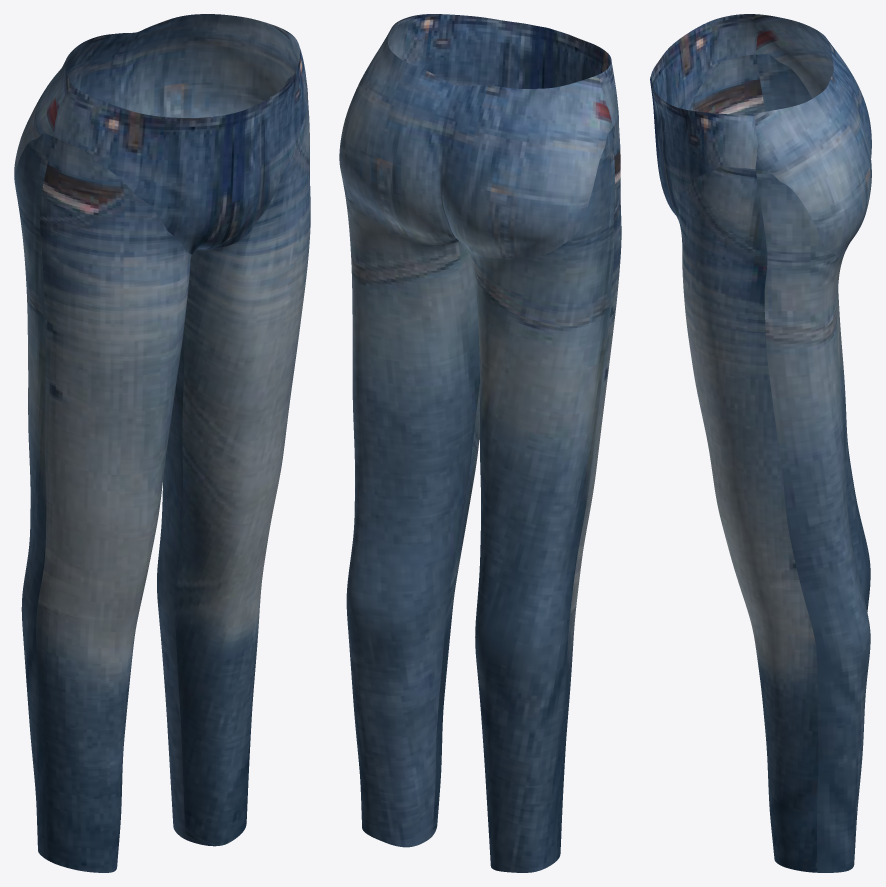
File: Zubon02.fbx
3 views of the same model, side by side, from view 1: azimuth 30°, elevation 25°; view 2: azimuth 150°, elevation 25°; view 3: azimuth 270°, elevation 25° (orthographic). The views are drawn at different scales.
Parts seen in each view (by area): view 1: Zubon02; view 2: Zubon02; view 3: Zubon02.
Boxes of the visible parts, x1=… form: Zubon02: x1=14, y1=14, x2=310, y2=872; Zubon02: x1=339, y1=14, x2=621, y2=872; Zubon02: x1=650, y1=14, x2=871, y2=872.
Bounding box in the file's own units: 31.2 × 91.29 × 23.71.
